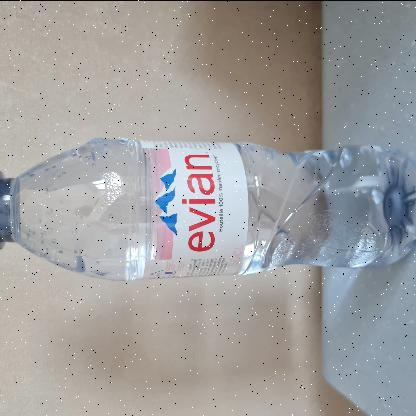Plastic Bottle: (1, 137, 415, 281)
